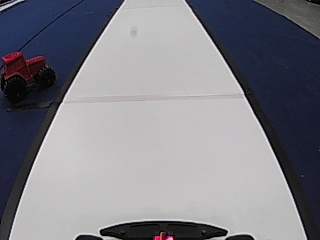tractor: (0, 50, 57, 102)
